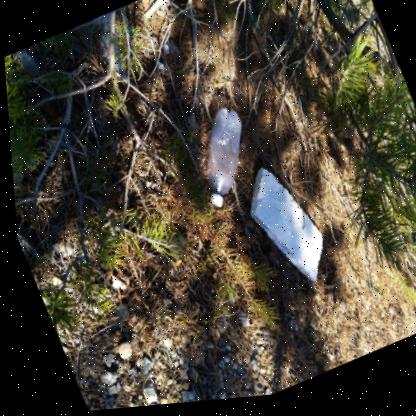Plastic: (203, 112, 239, 211), (9, 156, 36, 193)
Waste: (245, 172, 318, 287), (205, 200, 219, 212), (157, 65, 162, 73)
